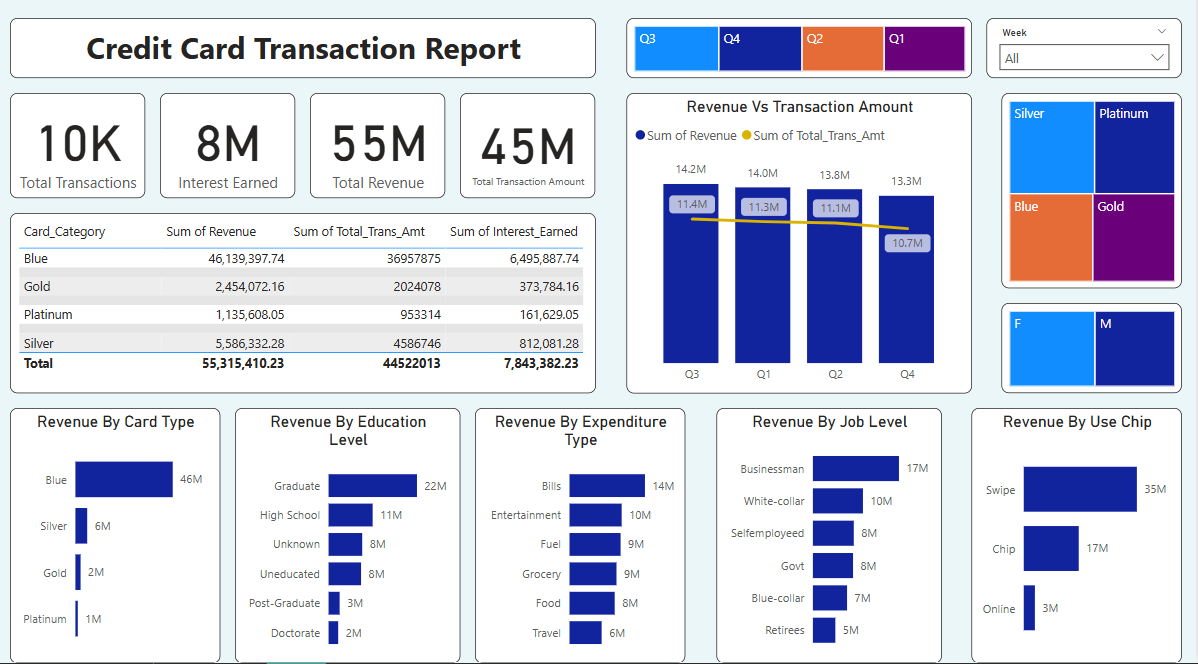

This screenshot's page, from the dashboard's own definition file:
{"tool":"powerbi","page":{"name":"Page 1","canvas":[1280,720],"ordinal":0},"visuals":[{"type":"barChart","title":"Revenue By Card Type","fields":{"Y":["Sum(credit_card.Revenue)"],"Category":["credit_card.Card_Category"]},"box":[16,448,224,272],"z":0},{"type":"barChart","title":"Revenue By Education Level","fields":{"Y":["Sum(credit_card.Revenue)"],"Category":["customer.Education_Level"]},"box":[256,448,240,272],"z":1000},{"type":"barChart","title":"Revenue By Expenditure Type","fields":{"Y":["Sum(credit_card.Revenue)"],"Category":["credit_card.Exp Type"]},"box":[512,448,224,272],"z":2000},{"type":"barChart","title":"Revenue By Job Level","fields":{"Y":["Sum(credit_card.Revenue)"],"Category":["customer.Customer_Job"]},"box":[768,448,240,272],"z":3000},{"type":"barChart","title":"Revenue By Use Chip","fields":{"Y":["Sum(credit_card.Revenue)"],"Category":["credit_card.Use Chip"]},"box":[1040,448,224,272],"z":4000},{"type":"lineStackedColumnComboChart","title":"Revenue Vs Transaction Amount","fields":{"Y":["Sum(credit_card.Revenue)"],"Y2":["Sum(credit_card.Total_Trans_Amt)"],"Category":["credit_card.Qtr"]},"box":[672,112,368,320],"z":5000},{"type":"tableEx","fields":{"Values":["credit_card.Card_Category","Sum(credit_card.Revenue)","Sum(credit_card.Total_Trans_Amt)","Sum(credit_card.Interest_Earned)"]},"box":[16,240,624,192],"z":6000},{"type":"card","fields":{"Values":["All Measures.Total Transactions"]},"box":[16,112,144,112],"z":7000},{"type":"card","fields":{"Values":["All Measures.Interest Earned"]},"box":[176,112,144,112],"z":8000},{"type":"card","fields":{"Values":["All Measures.Total Transaction Amount"]},"box":[496,112,144,112],"z":9000},{"type":"card","fields":{"Values":["All Measures.Total Revenue"]},"box":[336,112,144,112],"z":10000},{"type":"treemap","fields":{"Group":["credit_card.Qtr"],"Values":["Sum(credit_card.Activation_30_Days)"]},"box":[672,32,368,64],"z":11000},{"type":"treemap","fields":{"Values":["Avg(credit_card.Activation_30_Days)"],"Group":["customer.Gender"]},"box":[1072,336,192,96],"z":12000},{"type":"treemap","fields":{"Values":["Avg(credit_card.Activation_30_Days)"],"Group":["credit_card.Card_Category"]},"box":[1072,112,192,208],"z":13000},{"type":"slicer","fields":{"Values":["credit_card.Week_Num","credit_card.Activation_30_Days"]},"box":[1056,32,208,64],"z":14000},{"type":"textbox","box":[16,32,624,64],"z":15000}]}

Visuals, with their boxes in screenshot pixels (x1, y1, x2, y2), scaled from the page's 1280x720 canvas onto the 1198x664 screenshot:
"Revenue By Card Type" barChart: x1=15 y1=413 x2=225 y2=663
"Revenue By Education Level" barChart: x1=240 y1=413 x2=464 y2=663
"Revenue By Expenditure Type" barChart: x1=479 y1=413 x2=689 y2=663
"Revenue By Job Level" barChart: x1=719 y1=413 x2=943 y2=663
"Revenue By Use Chip" barChart: x1=973 y1=413 x2=1183 y2=663
"Revenue Vs Transaction Amount" lineStackedColumnComboChart: x1=629 y1=103 x2=973 y2=398
tableEx - credit_card.Card_Category x Sum(credit_card.Revenue): x1=15 y1=221 x2=599 y2=398
card - All Measures.Total Transactions: x1=15 y1=103 x2=150 y2=207
card - All Measures.Interest Earned: x1=165 y1=103 x2=300 y2=207
card - All Measures.Total Transaction Amount: x1=464 y1=103 x2=599 y2=207
card - All Measures.Total Revenue: x1=314 y1=103 x2=449 y2=207
treemap - credit_card.Qtr x Sum(credit_card.Activation_30_Days): x1=629 y1=30 x2=973 y2=89
treemap - Avg(credit_card.Activation_30_Days) x customer.Gender: x1=1003 y1=310 x2=1183 y2=398
treemap - Avg(credit_card.Activation_30_Days) x credit_card.Card_Category: x1=1003 y1=103 x2=1183 y2=295
slicer - credit_card.Week_Num x credit_card.Activation_30_Days: x1=988 y1=30 x2=1183 y2=89
textbox: x1=15 y1=30 x2=599 y2=89
